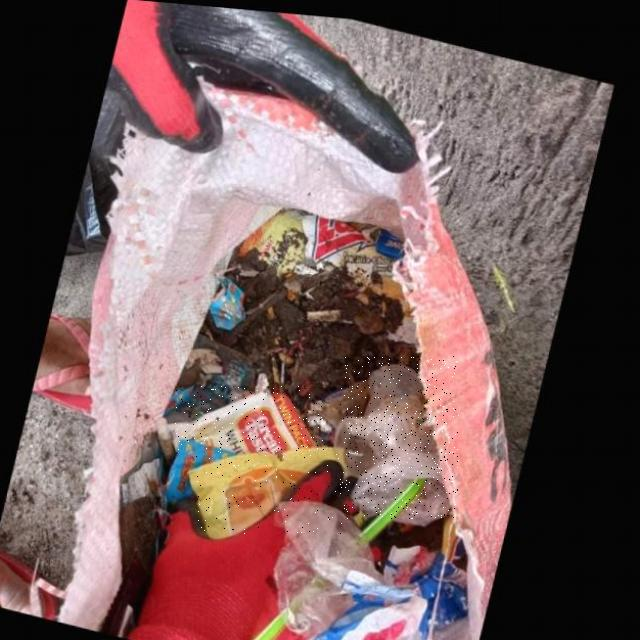plastic: (340, 357, 459, 519)
wrapper: (196, 442, 358, 534), (176, 386, 324, 452)
